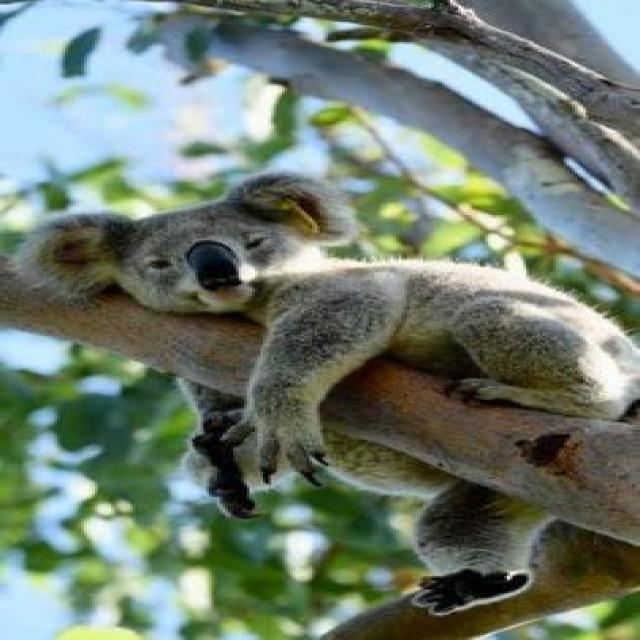Herbivorous: (14, 173, 640, 616)
